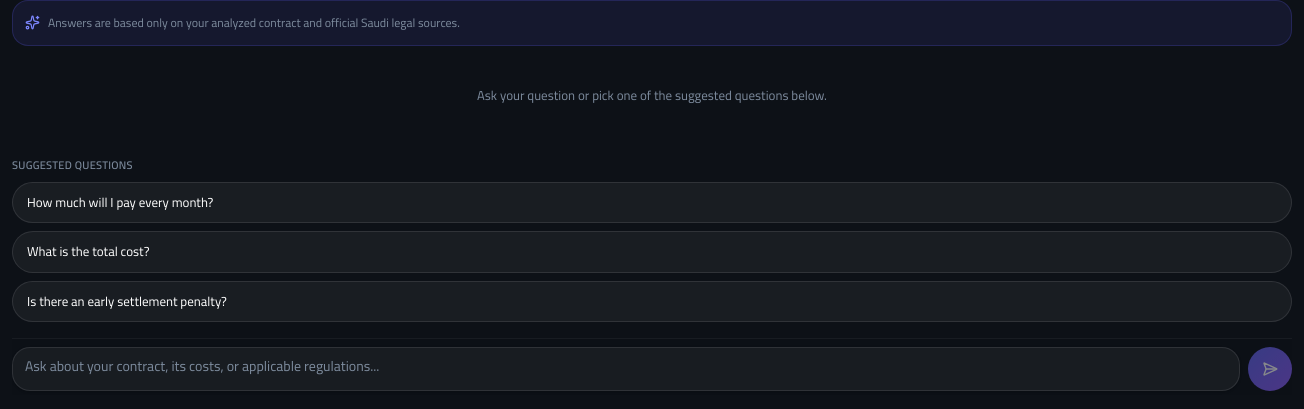
Test: ContractChat › blocks a duplicate send while a request is already in flight
Type "How much will I pay?" into the text box with test id "chat-input-textarea" at (626, 369), box [12,347,1240,391]
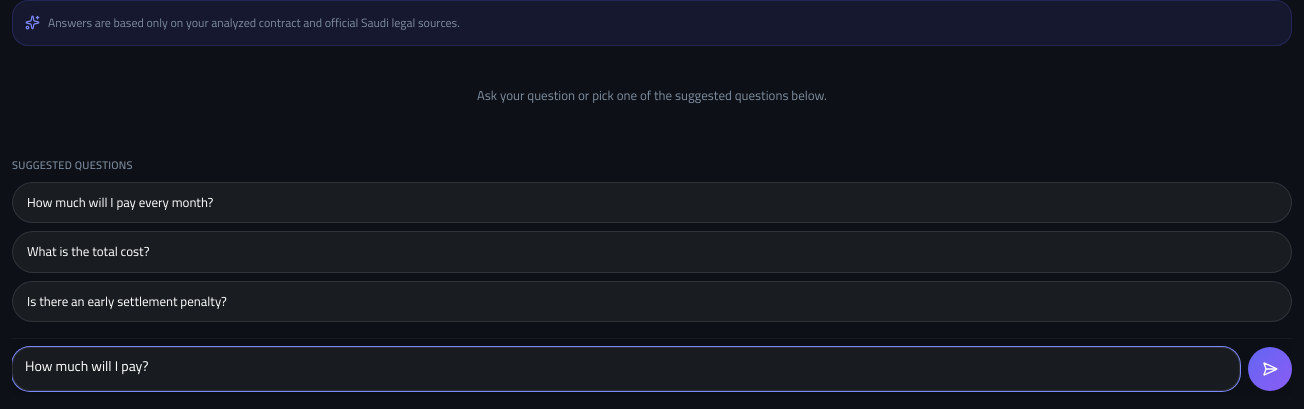
Click the button with test id "chat-send-button" at (1270, 369), box [1248,347,1292,391]
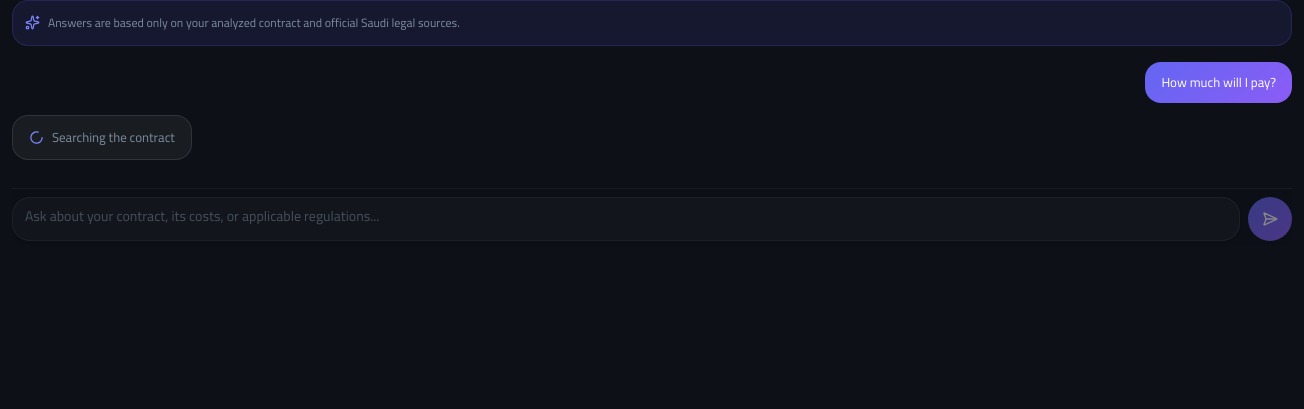
Expected: the element with test id "chat-loading-state" is shown, [12,115,192,160]
Expected: the button with test id "chat-send-button" is disabled, [1248,197,1292,241]
